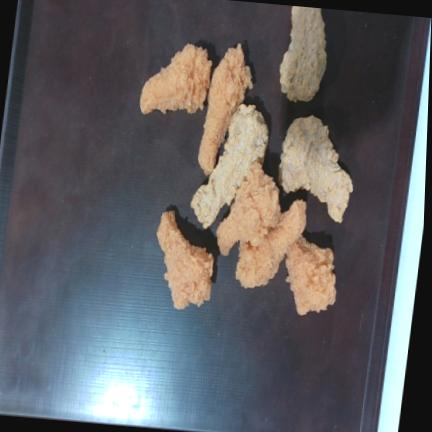chicken: (191, 105, 268, 228), (279, 116, 352, 221), (198, 43, 252, 175), (236, 200, 306, 287), (217, 161, 280, 256), (157, 211, 213, 309), (140, 44, 212, 114), (280, 6, 326, 101), (286, 236, 336, 315)
